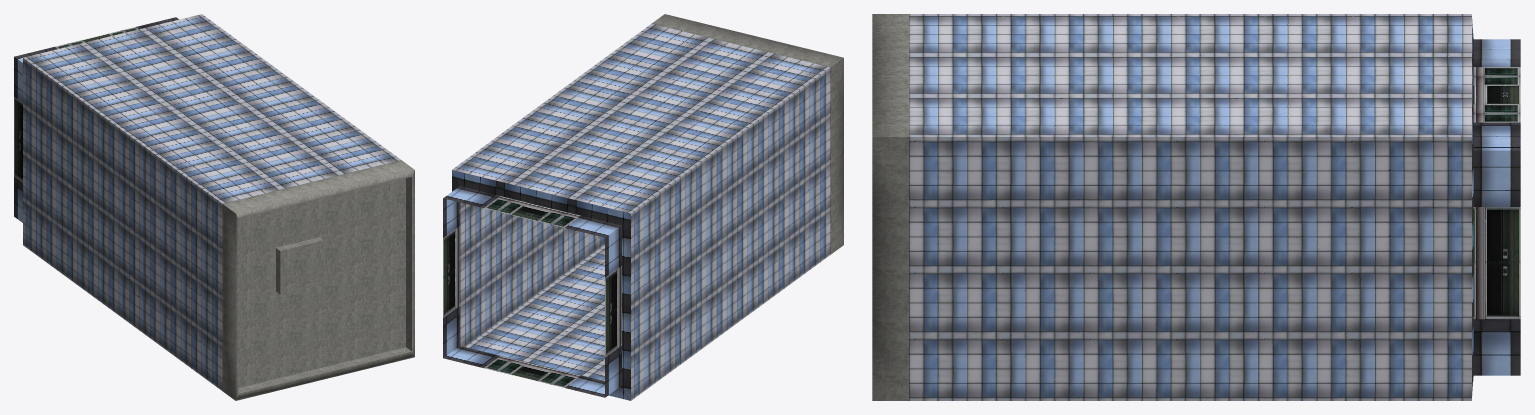
The model's file is skyscraper_windowD_01.obj.
The picture shows the model from 3 angles, left to right: view 1: azimuth 30°, elevation 25°; view 2: azimuth 150°, elevation 25°; view 3: azimuth 270°, elevation 25°; orthographic projection. The views are drawn at different scales.
Parts seen in each view (by area): view 1: Zone_4x4_SeaWall_C_04; view 2: Zone_4x4_SeaWall_C_04; view 3: Zone_4x4_SeaWall_C_04.
Part boxes in pixels (left/top/right/bottom): Zone_4x4_SeaWall_C_04: left=14, top=14, right=414, bottom=400; Zone_4x4_SeaWall_C_04: left=443, top=14, right=843, bottom=400; Zone_4x4_SeaWall_C_04: left=872, top=14, right=1520, bottom=400.
Bounding box in the file's own units: 40 × 40 × 89.04.
4 materials, 4 textured.
